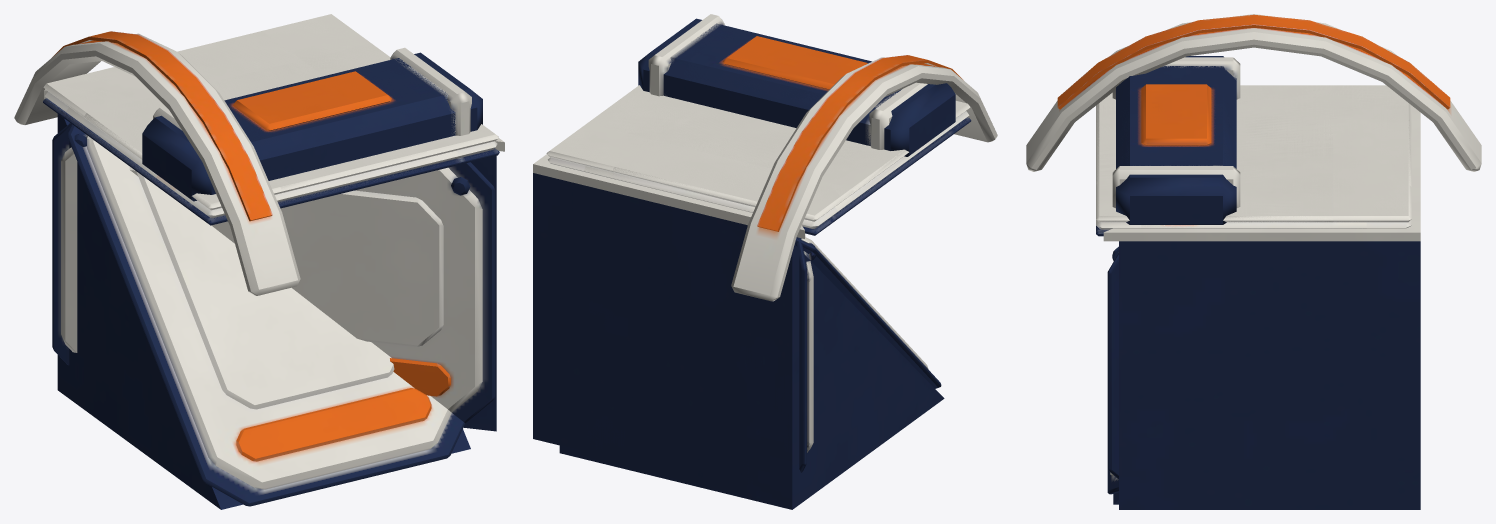
File: R4H_HullKit.fbx
The picture shows the model from 3 angles, left to right: view 1: azimuth 30°, elevation 25°; view 2: azimuth 150°, elevation 25°; view 3: azimuth 270°, elevation 25°; orthographic projection. The views are drawn at different scales.
Parts seen in each view (by area): view 1: ramp, cheek, lip, nose_0, plate_07, nose_3, plate_06, nose_2, nose_1, plate_08, plate_04, plate_02 (+10 smaller); view 2: ramp, cheek, lip, plate_15, nose_0, nose_2, nose_1, plate_03, plate_04, plate_13, plate_02, nose_3 (+7 smaller); view 3: cheek, lip, plate_07, nose_0, nose_1, plate_15, plate_05, plate_03, plate_01, plate_00, nose_2, plate_11 (+6 smaller).
Boxes of the visible parts, x1=… form: ramp: x1=57, y1=114, x2=470, y2=509; cheek: x1=44, y1=89, x2=504, y2=431; lip: x1=14, y1=31, x2=300, y2=295; nose_0: x1=153, y1=47, x2=471, y2=180; plate_07: x1=46, y1=14, x2=389, y2=207; nose_3: x1=145, y1=54, x2=479, y2=194; plate_06: x1=43, y1=32, x2=322, y2=211; nose_2: x1=142, y1=61, x2=455, y2=201; nose_1: x1=224, y1=52, x2=482, y2=180; plate_08: x1=272, y1=69, x2=471, y2=207; plate_04: x1=177, y1=31, x2=321, y2=99; plate_02: x1=59, y1=68, x2=323, y2=212; ramp: x1=559, y1=185, x2=944, y2=509; cheek: x1=533, y1=154, x2=815, y2=496; lip: x1=731, y1=55, x2=997, y2=301; plate_15: x1=549, y1=86, x2=967, y2=230; nose_0: x1=648, y1=14, x2=927, y2=149; nose_2: x1=670, y1=24, x2=955, y2=156; nose_1: x1=638, y1=18, x2=894, y2=145; plate_03: x1=619, y1=86, x2=923, y2=219; plate_04: x1=584, y1=135, x2=768, y2=212; plate_13: x1=546, y1=85, x2=764, y2=205; plate_02: x1=663, y1=125, x2=956, y2=223; nose_3: x1=641, y1=19, x2=952, y2=150; cheek: x1=1103, y1=106, x2=1420, y2=509; lip: x1=1026, y1=14, x2=1481, y2=171; plate_07: x1=1226, y1=85, x2=1411, y2=227; nose_0: x1=1112, y1=57, x2=1240, y2=208; nose_1: x1=1116, y1=66, x2=1236, y2=224; plate_15: x1=1096, y1=85, x2=1408, y2=229; plate_05: x1=1144, y1=119, x2=1411, y2=228; plate_03: x1=1141, y1=86, x2=1366, y2=228; plate_01: x1=1226, y1=117, x2=1333, y2=222; plate_00: x1=1236, y1=117, x2=1333, y2=179; nose_2: x1=1116, y1=56, x2=1236, y2=168; plate_11: x1=1096, y1=85, x2=1365, y2=235.
Size of the model in its own units: 56.5 by 72.32 by 79.32.
